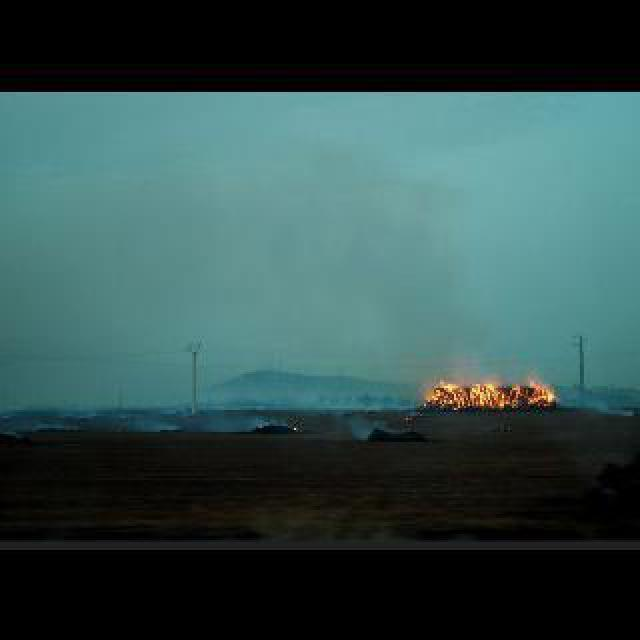fire: (421, 375, 561, 412)
